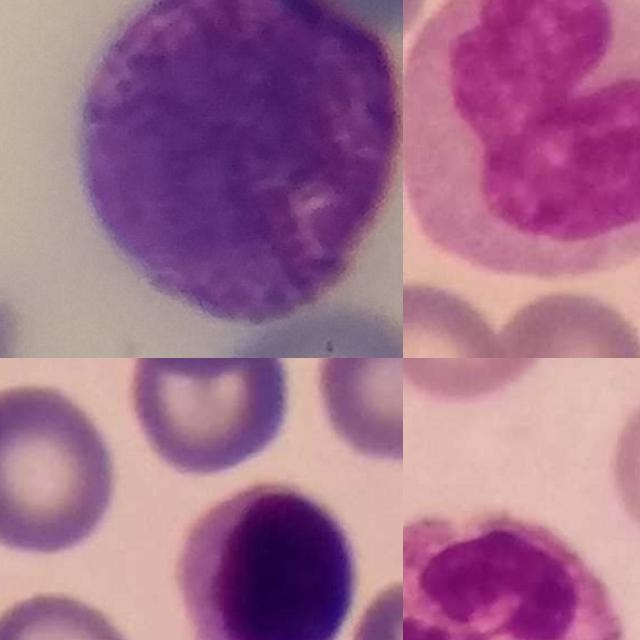Basophil: (76, 0, 403, 327)
Lymphocyte: (168, 483, 355, 640)
Monocyte: (403, 0, 640, 279)
Neutrophil: (403, 513, 622, 640)
